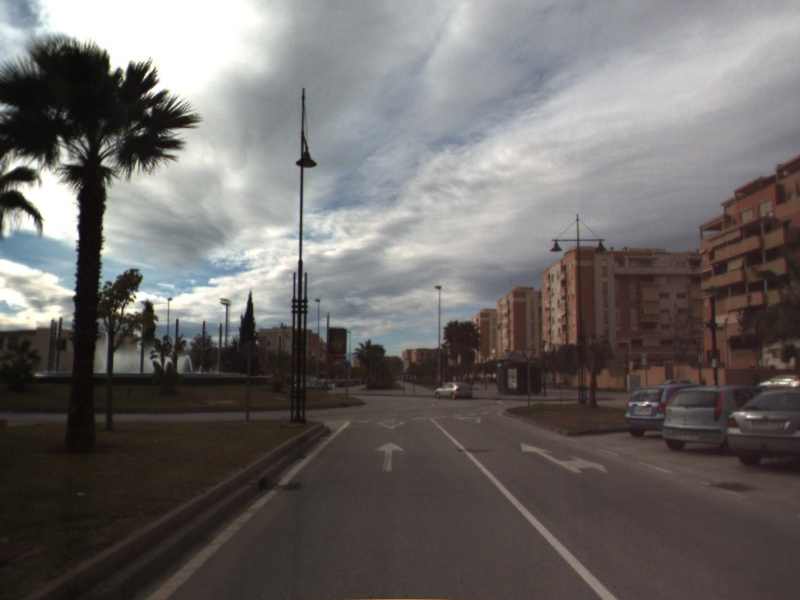STRAIGHT: (372, 439, 406, 473)
STRAIGHT_RIGHT: (519, 441, 609, 475)
